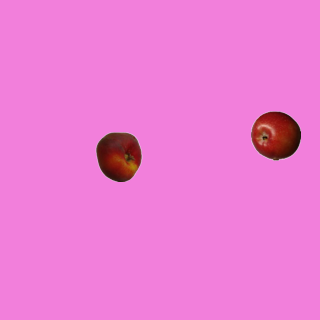Apple Braeburn: (250, 110, 300, 160)
Nectarine Flat: (93, 131, 143, 181)
